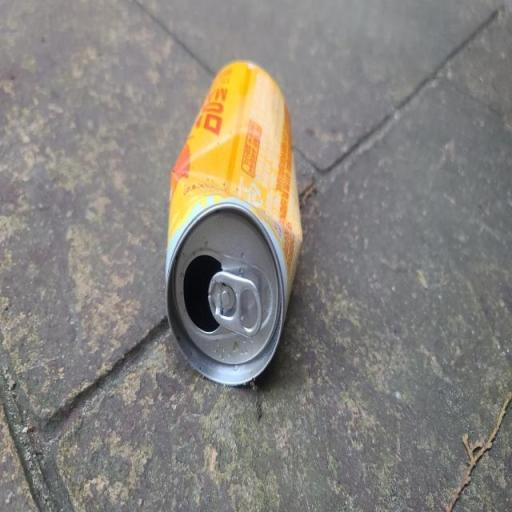metal: (153, 50, 310, 390)
